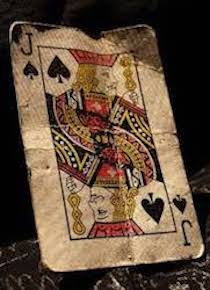JackOfSpades: (6, 16, 207, 274)
